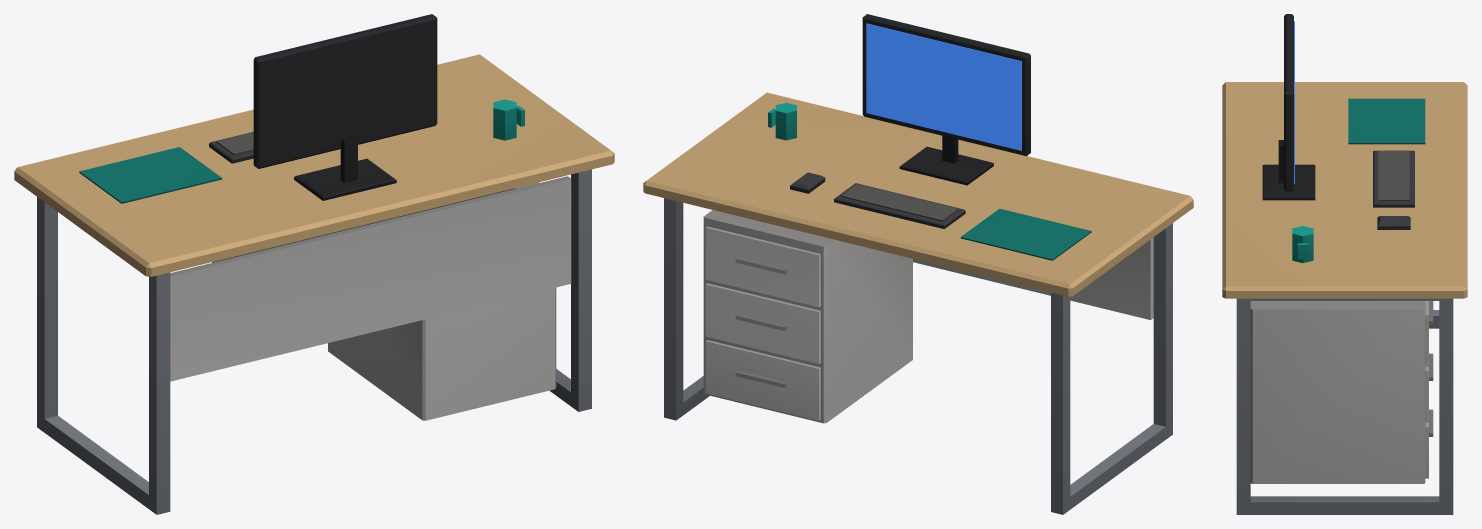
Rendered from desk_standard_01.glb.
The picture shows the model from 3 angles, left to right: view 1: azimuth 30°, elevation 25°; view 2: azimuth 150°, elevation 25°; view 3: azimuth 270°, elevation 25°; orthographic projection. The views are drawn at different scales.
Visible parts, largest first — view 1: desk_standard_01_mesh; view 2: desk_standard_01_mesh, desk_standard_01_screen; view 3: desk_standard_01_mesh.
Boxes of the visible parts, box(x1,y1,x2,y2) form: desk_standard_01_mesh: box(14, 14, 614, 514); desk_standard_01_mesh: box(643, 14, 1193, 514); desk_standard_01_screen: box(866, 23, 1021, 150); desk_standard_01_mesh: box(1222, 14, 1467, 514).
Size of the model in its own units: 1.4 by 1.15 by 0.7001.
2 materials, 2 textured.
